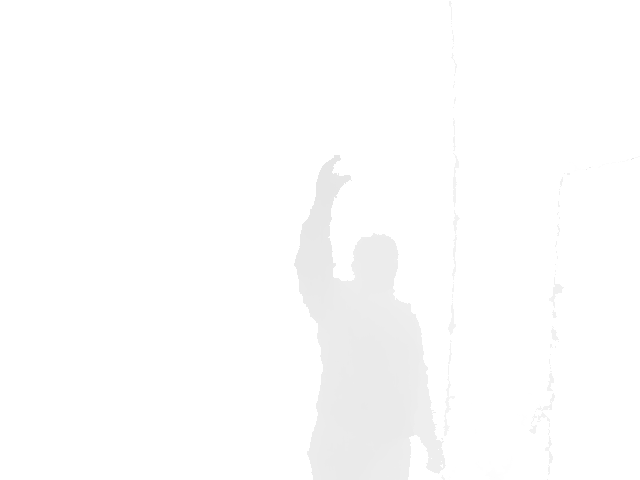hand: (314, 153, 352, 198)
head: (352, 233, 400, 284)
person: (293, 153, 447, 480)
